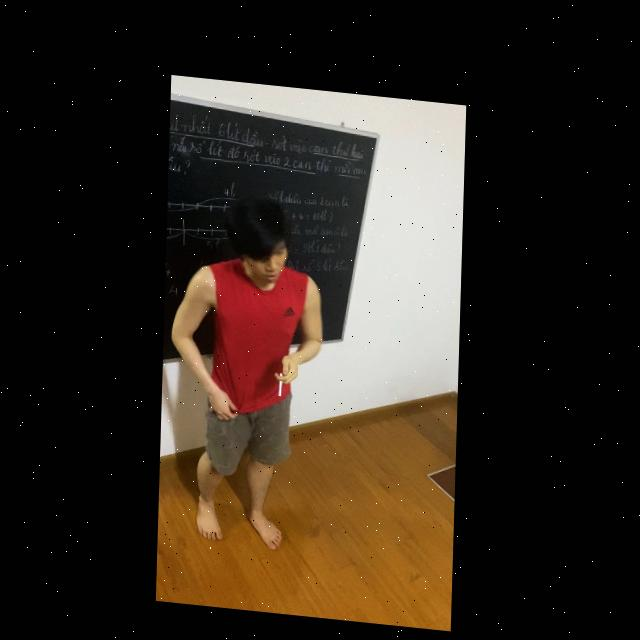cigarette: (279, 366, 284, 390)
